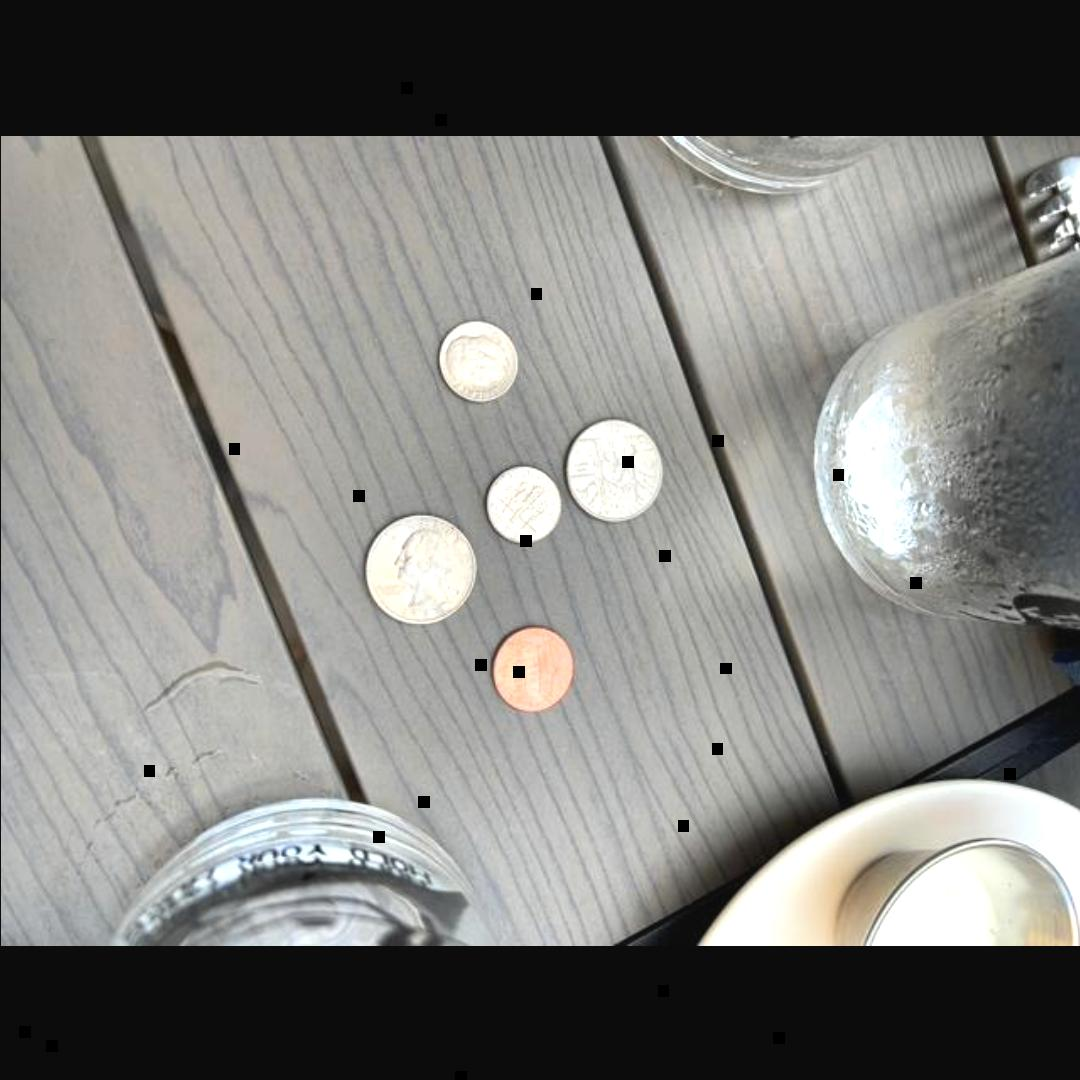Dime: (436, 317, 518, 405), (484, 465, 560, 545)
Penny: (489, 624, 573, 714)
Quarter: (362, 512, 478, 624), (563, 418, 663, 524)
